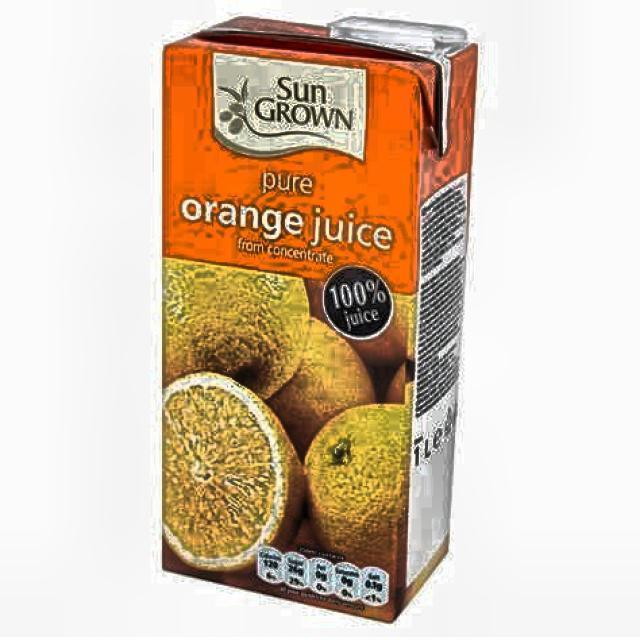cardboard: (159, 14, 478, 622)
